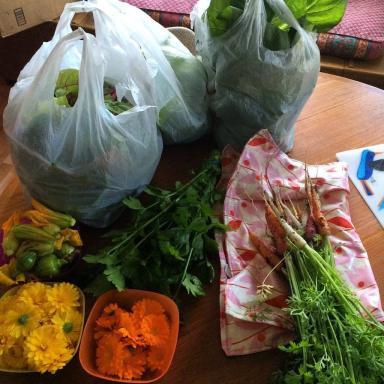plasticbag: (0, 2, 165, 218), (193, 2, 322, 153), (95, 0, 208, 144)
